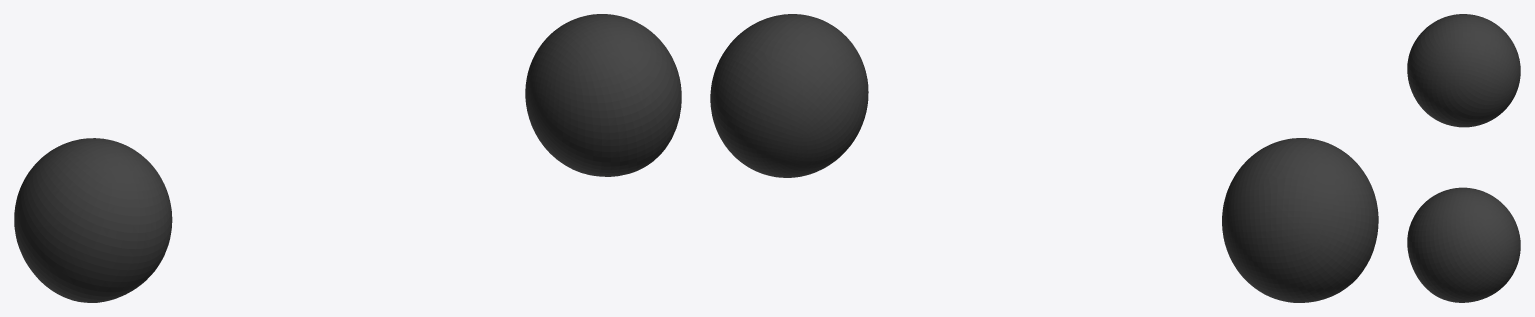
The model's file is eye_inner.glb.
3 views of the same model, side by side, from view 1: azimuth 30°, elevation 25°; view 2: azimuth 150°, elevation 25°; view 3: azimuth 270°, elevation 25° (orthographic). The views are drawn at different scales.
Parts seen in each view (by area): view 1: eye_inner; view 2: eye_inner; view 3: eye_inner.
Boxes of the visible parts, box(x1,y1,x2,y2) form: eye_inner: box(14, 14, 681, 302); eye_inner: box(710, 14, 1378, 302); eye_inner: box(1407, 14, 1520, 302).
Bounding box in the file's own units: 0.2487 × 0.0549 × 0.0542.
1 material, 1 textured.
